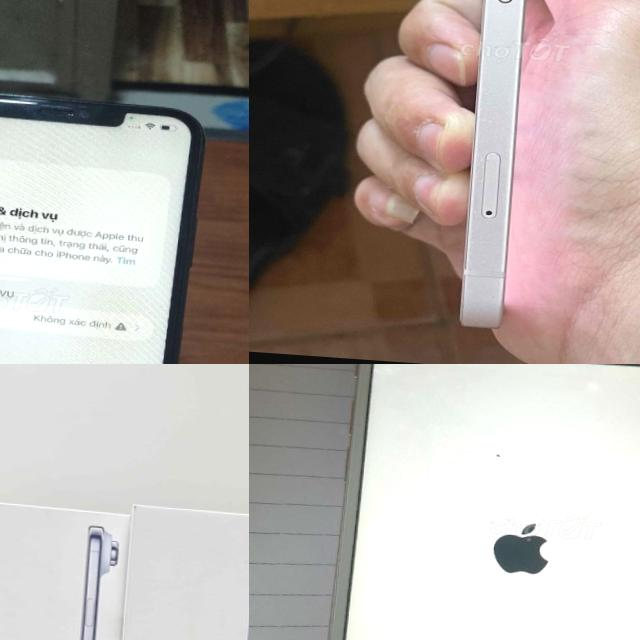scratch: (467, 61, 508, 276)
screen_defect: (489, 448, 507, 464)
